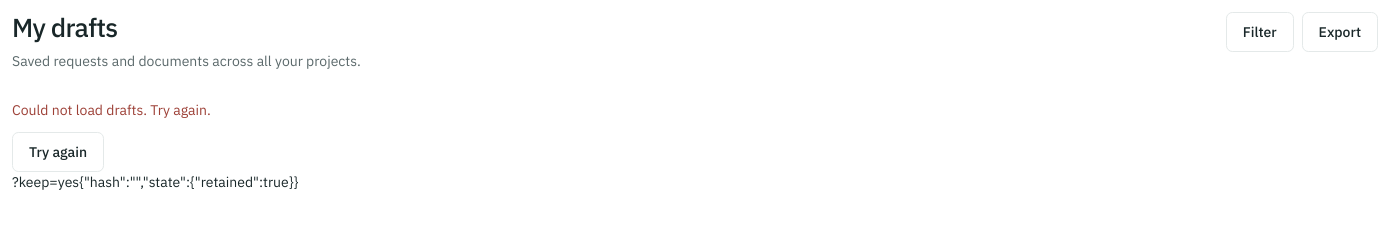
Test: distinguishes an empty account from a failed load and retries
Check: the message "Could not load drafts. Try again." is shown, box x1=12 y1=101 x2=211 y2=119
Step 1. Click the button "Try again" → [58, 152], box x1=12 y1=132 x2=104 y2=172
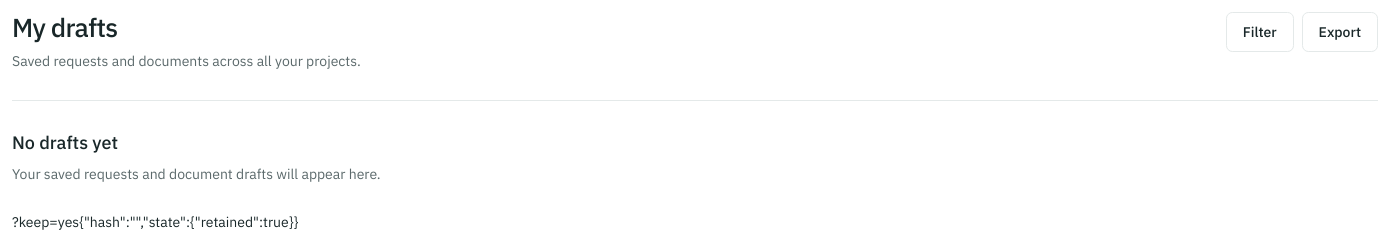
Check: the heading "No drafts yet" is shown, box x1=12 y1=131 x2=118 y2=154
